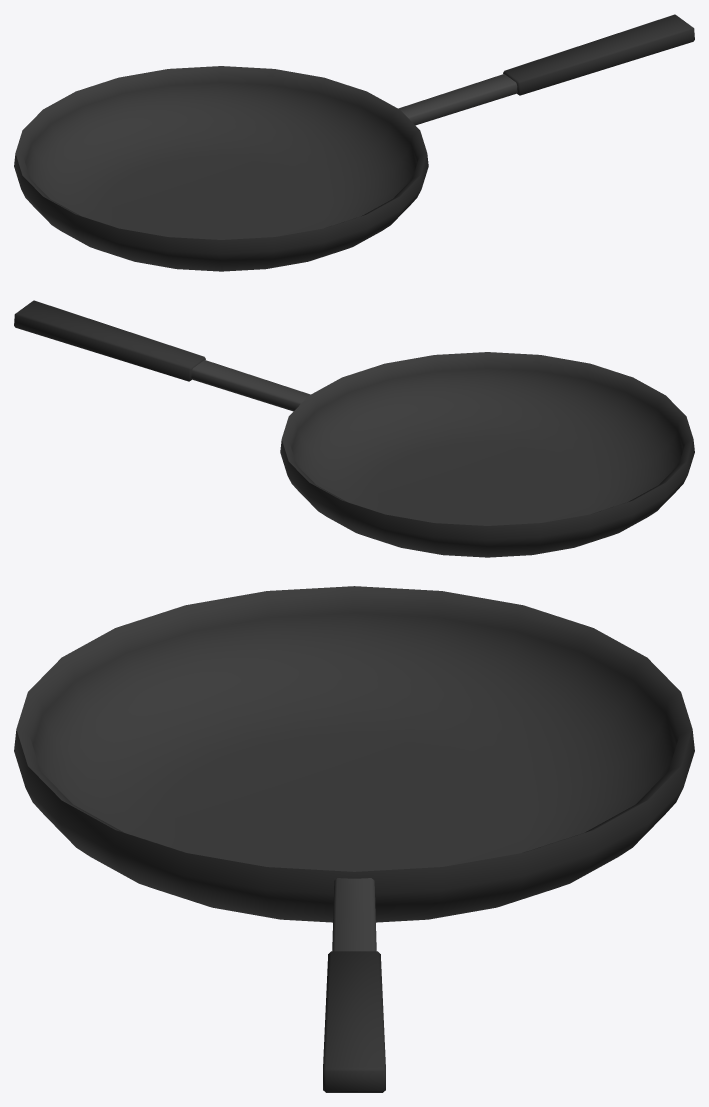
Rendered from SmallPan.glb.
3 views of the same model, one above another, from view 1: azimuth 30°, elevation 25°; view 2: azimuth 150°, elevation 25°; view 3: azimuth 270°, elevation 25° (orthographic). The views are drawn at different scales.
Parts seen in each view (by area): view 1: SmallPan; view 2: SmallPan; view 3: SmallPan.
Boxes of the visible parts, x1=… form: SmallPan: x1=14, y1=14, x2=694, y2=271; SmallPan: x1=14, y1=300, x2=694, y2=557; SmallPan: x1=14, y1=586, x2=694, y2=1092.
Bounding box in the file's own units: 0.5638 × 0.0646 × 0.3142.
Materials: 1 (1 with a texture image).
